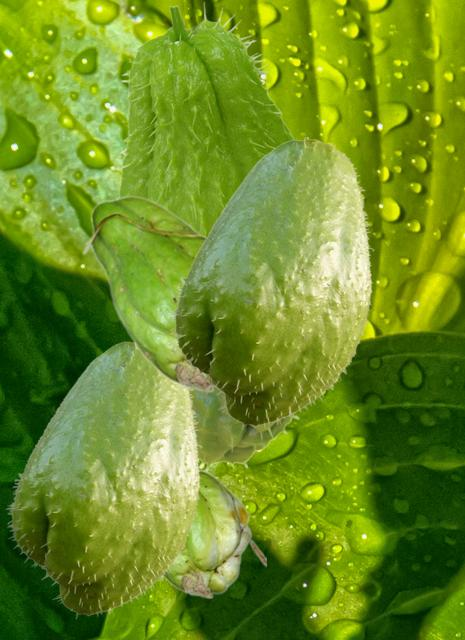sayote: (168, 137, 373, 429), (5, 341, 201, 618), (112, 1, 294, 234), (81, 195, 215, 392), (164, 467, 265, 598), (190, 388, 300, 470)
